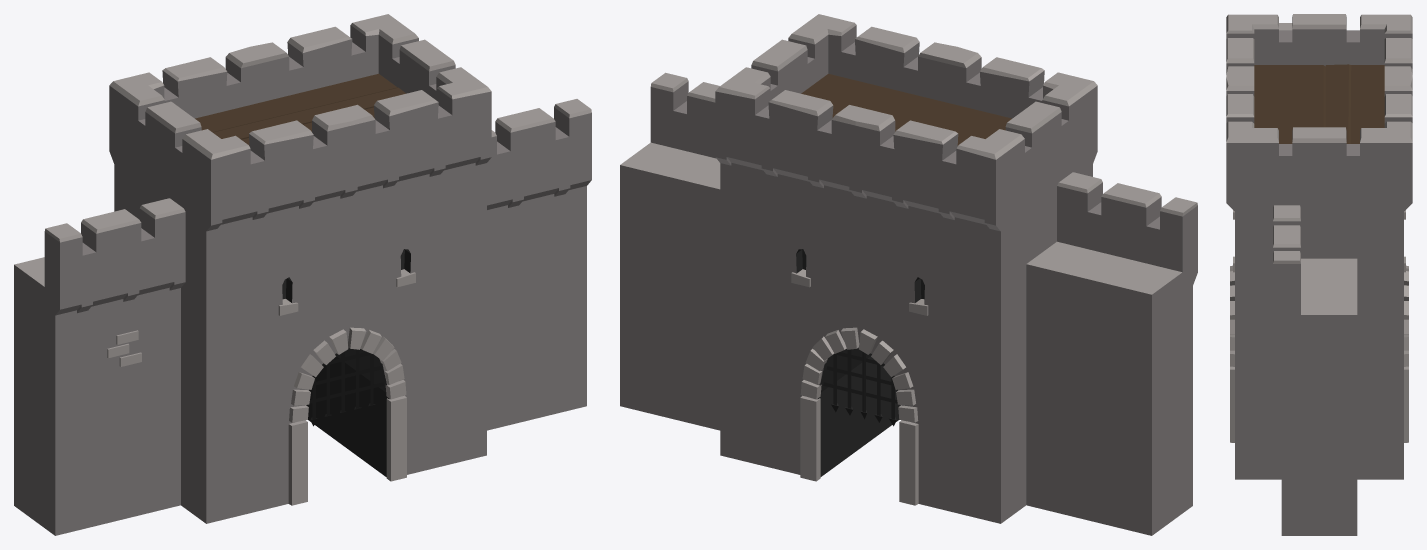
The model's file is medieval_gate-medieval_medium.fbx.
The picture shows the model from 3 angles, left to right: view 1: azimuth 30°, elevation 25°; view 2: azimuth 150°, elevation 25°; view 3: azimuth 270°, elevation 25°; orthographic projection. The views are drawn at different scales.
Visible parts, largest first — view 1: medieval_gate_medieval_medium; view 2: medieval_gate_medieval_medium; view 3: medieval_gate_medieval_medium.
Boxes of the visible parts, x1=… form: medieval_gate_medieval_medium: x1=14, y1=14, x2=591, y2=535; medieval_gate_medieval_medium: x1=620, y1=14, x2=1197, y2=535; medieval_gate_medieval_medium: x1=1226, y1=14, x2=1412, y2=535.
Size of the model in its own units: 200 by 134 by 66.27.
